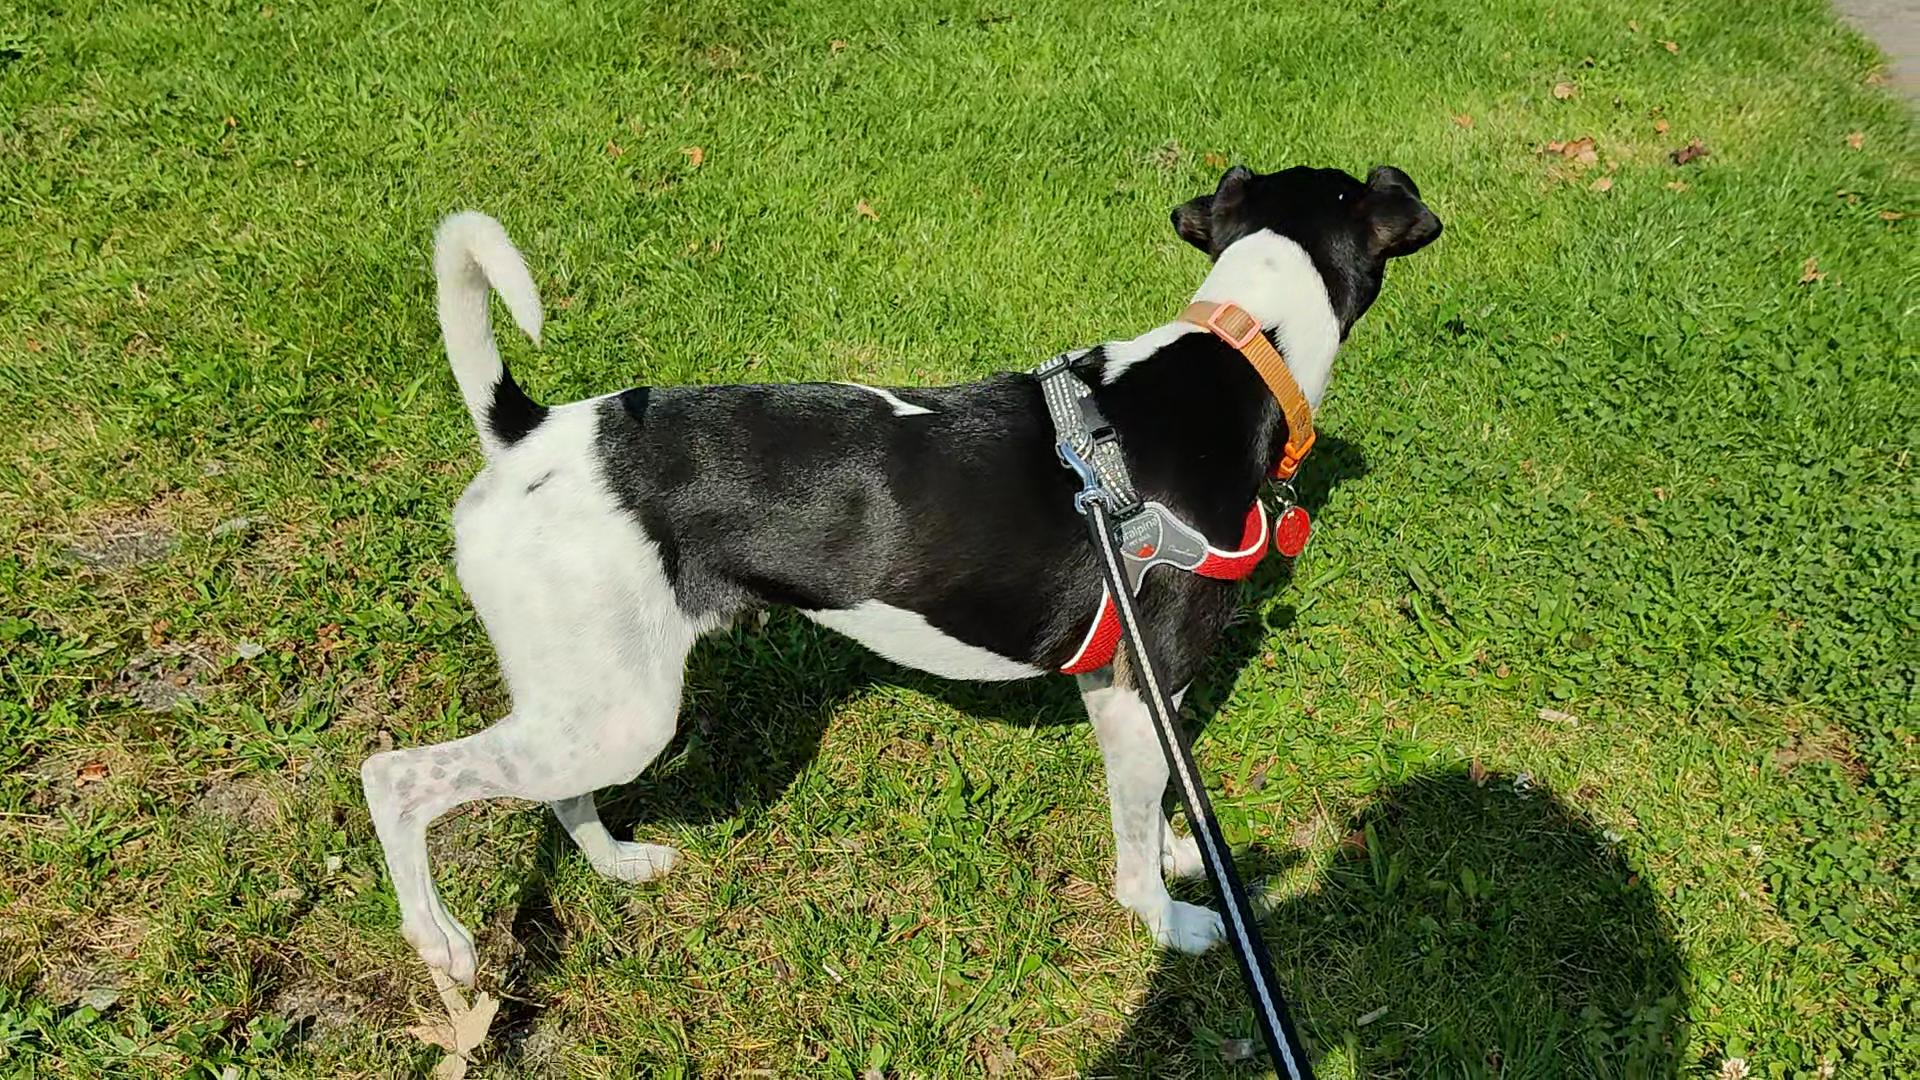Dog: (347, 158, 1445, 988)
